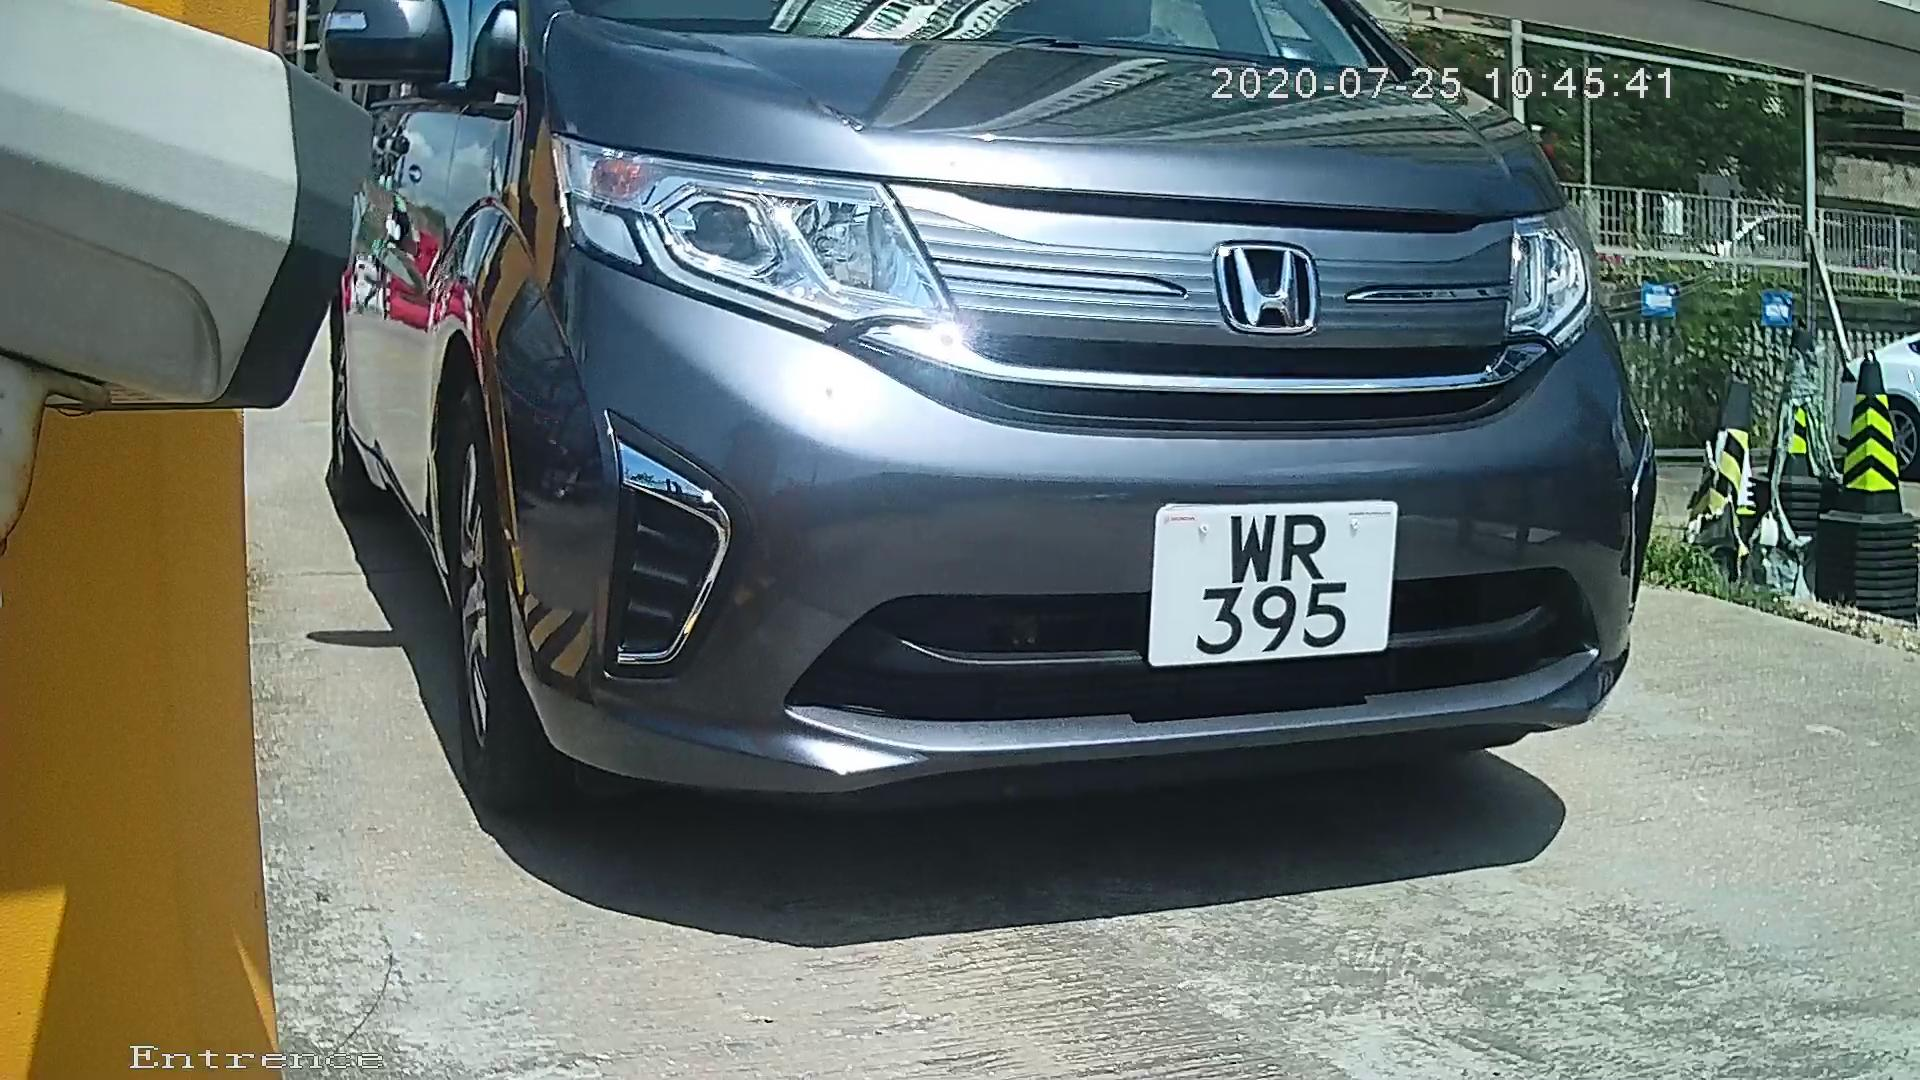License Plate: (1132, 483, 1415, 685)
